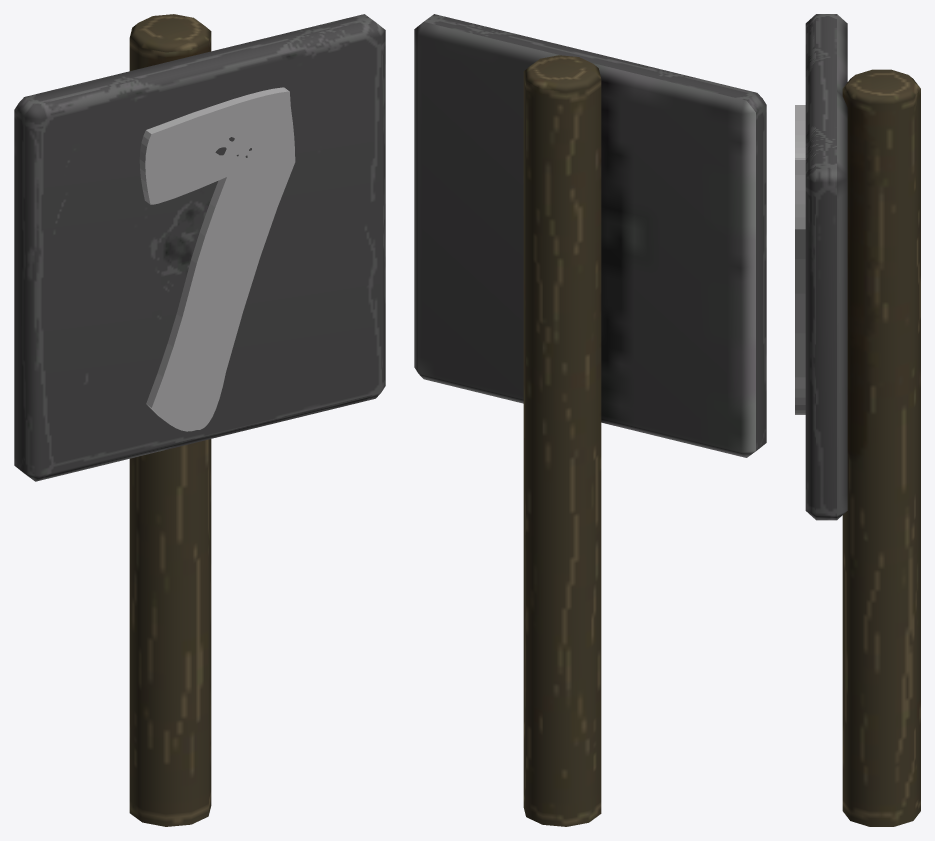
The model's file is sign7.fbx.
3 views of the same model, side by side, from view 1: azimuth 30°, elevation 25°; view 2: azimuth 150°, elevation 25°; view 3: azimuth 270°, elevation 25° (orthographic). The views are drawn at different scales.
Parts seen in each view (by area): view 1: sign7; view 2: sign7; view 3: sign7.
Boxes of the visible parts, x1,y1,x2,y2 form: sign7: (14, 14, 385, 826); sign7: (414, 14, 766, 826); sign7: (795, 14, 920, 826).
Bounding box in the file's own units: 1 × 2.07 × 0.3243.
Materials: 1 (1 with a texture image).
